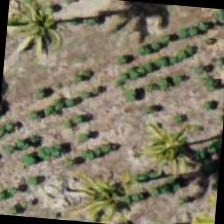Kelapa_Sawit: (126, 102, 223, 201), (55, 149, 153, 223), (3, 0, 86, 81)
